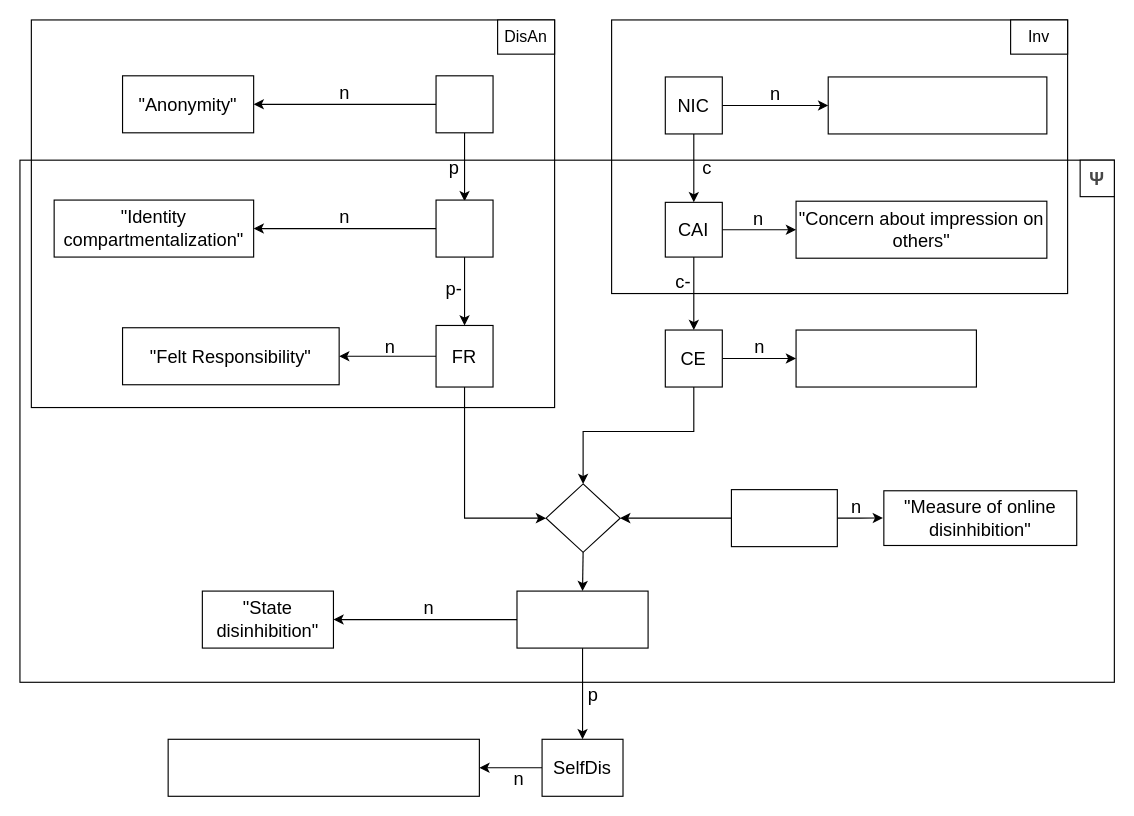
Image size: 1134x816. Some labels were removed from this diagram. The centre of each missing label's shape, as x and y in pixels:
"Courage to express oneself": (885,358)
"Number of interpersonal cues": (937,105)
"Self-Disclosure": (323,767)
AN: (464,104)
IC: (464,228)
MOD: (783,517)
StateDis: (582,619)
